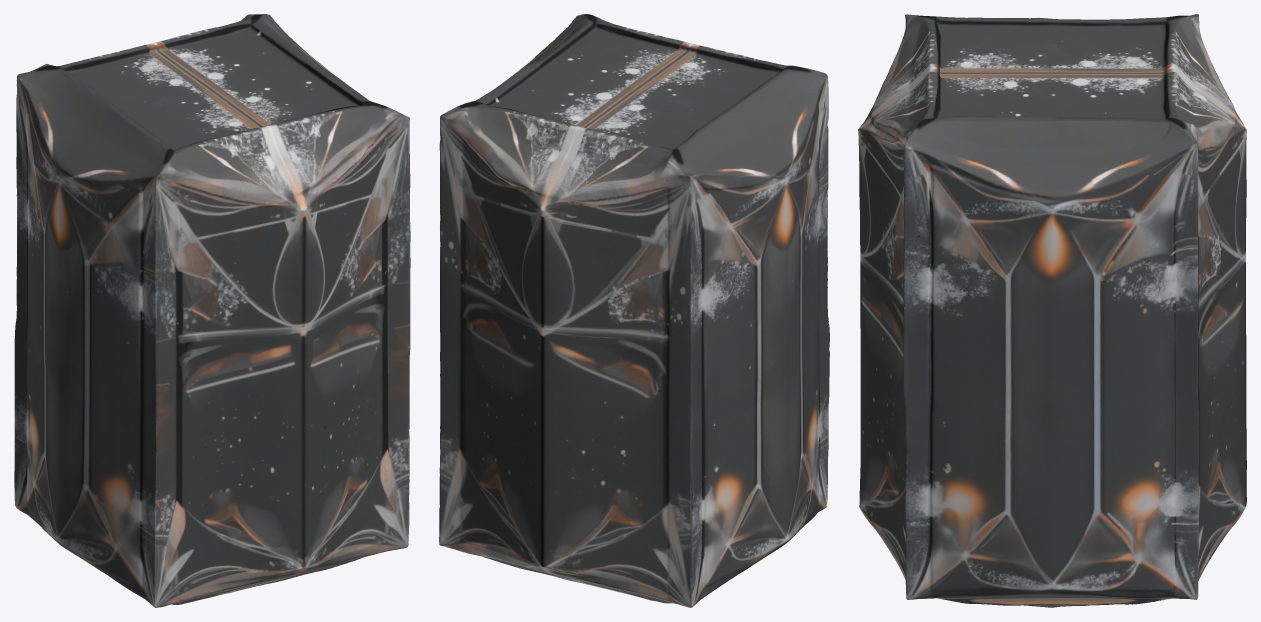
The model's file is engineering-crystal.glb.
3 renders of one model, left to right at view 1: azimuth 30°, elevation 25°; view 2: azimuth 150°, elevation 25°; view 3: azimuth 270°, elevation 25°, orthographic. The views are drawn at different scales.
Bounding box in the file's own units: 1.26 × 2 × 1.31.
1 material, 1 textured.
